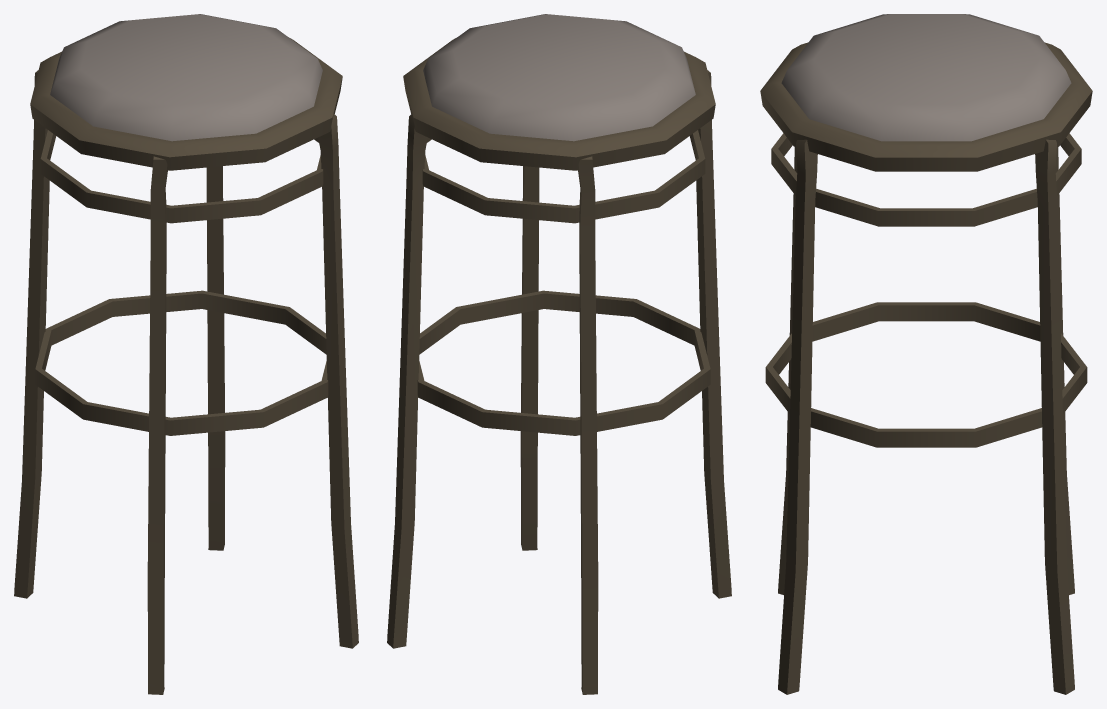
The model's file is stool.glb.
3 renders of one model, left to right at view 1: azimuth 30°, elevation 25°; view 2: azimuth 150°, elevation 25°; view 3: azimuth 270°, elevation 25°, orthographic. The views are drawn at different scales.
Parts seen in each view (by area): view 1: Stool; view 2: Stool; view 3: Stool.
Part boxes in pixels (<box>): Stool: <box>14,14,358,694</box>; Stool: <box>387,14,731,694</box>; Stool: <box>760,14,1092,694</box>.
Bounding box in the file's own units: 0.6753 × 1.37 × 0.7101.
